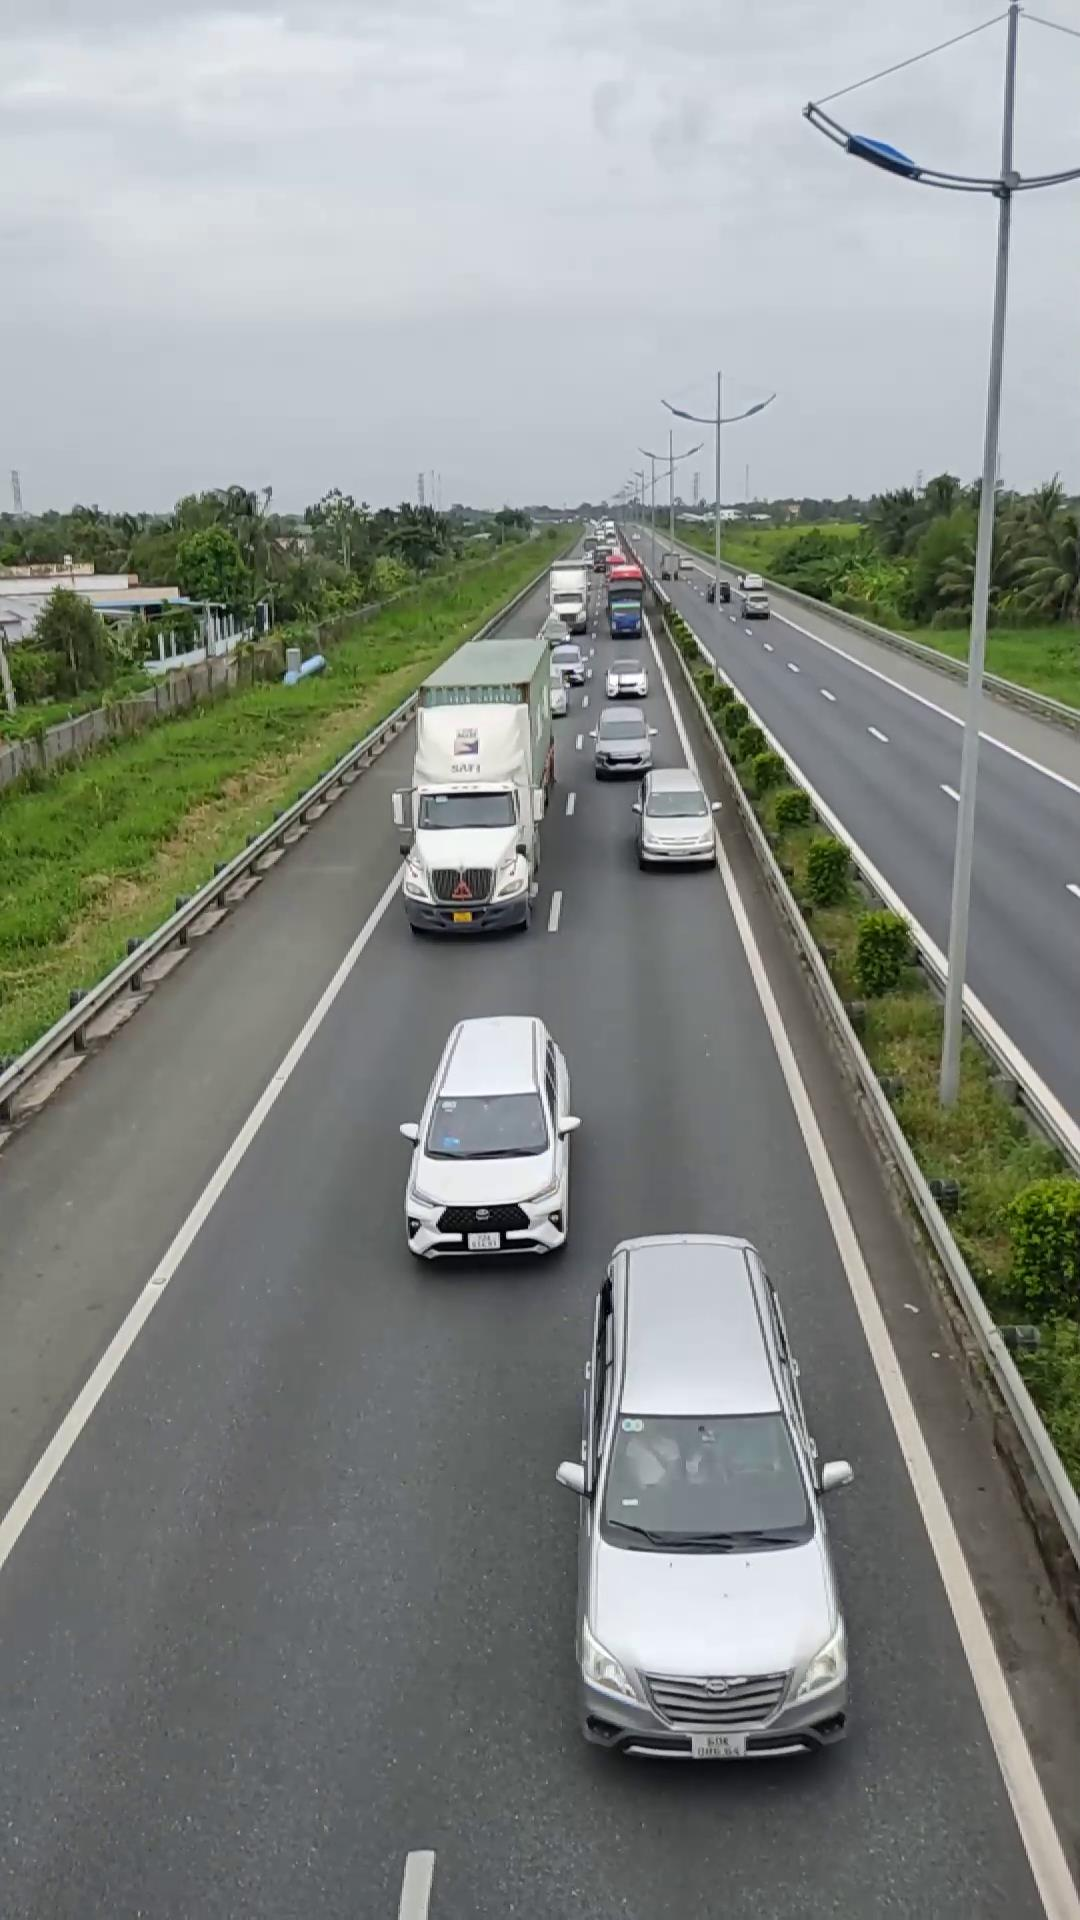car: (564, 1230, 855, 1760), (396, 1013, 579, 1265), (632, 766, 720, 869), (588, 713, 655, 778)
container: (396, 634, 556, 936)
